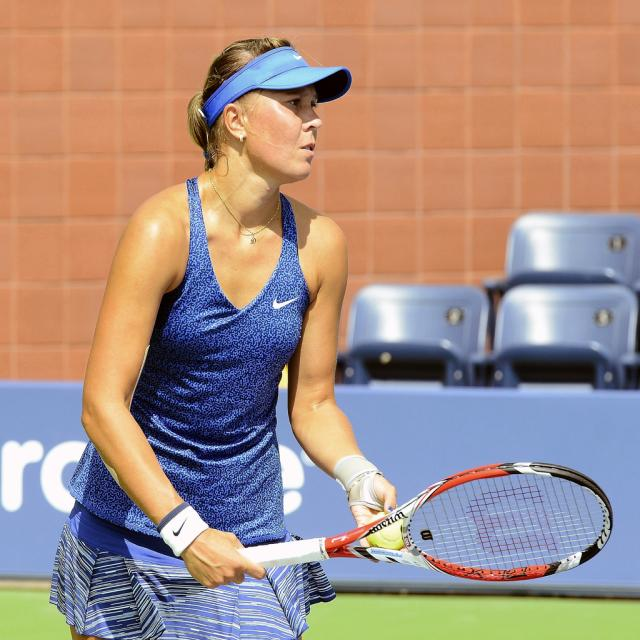Tennis ball: (366, 518, 405, 548)
